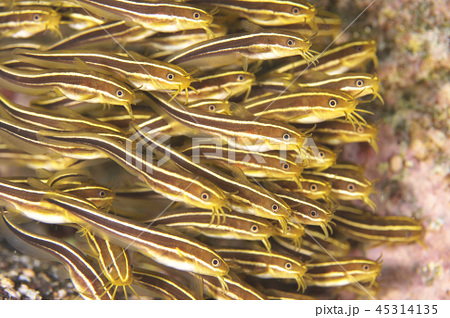gonzui: (42, 194, 234, 274), (165, 27, 319, 69), (1, 73, 136, 109)
